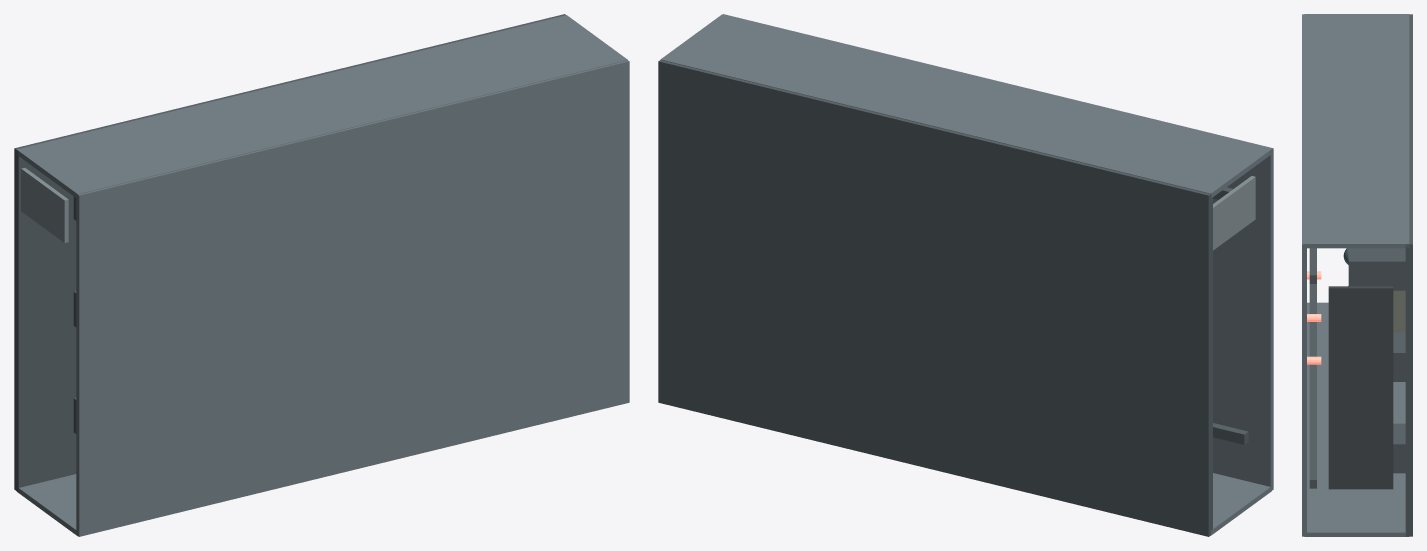
Rendered from Enterprise_CV6_1942_CIC_Interior.glb.
The picture shows the model from 3 angles, left to right: view 1: azimuth 30°, elevation 25°; view 2: azimuth 150°, elevation 25°; view 3: azimuth 270°, elevation 25°; orthographic projection. The views are drawn at different scales.
Parts seen in each view (by area): view 1: CIC_Ceiling, CIC_Wall_1, CIC_Floor, CIC_WatertightDoor, CIC_Wall_-1; view 2: CIC_Floor, CIC_Wall_1, CIC_Ceiling, CIC_WatertightDoor, CIC_Wall_-1; view 3: CIC_Wall_1, CIC_StatusBoard, CIC_Wall_-1, CIC_Floor, CIC_Console_5, CIC_Ceiling, CIC_CableTray_-2.8, CIC_Console_3, CIC_Console_4, CIC_PlotTable, CIC_CableTray_2.8.
Boxes of the visible parts, bbox=[...] form: CIC_Ceiling: bbox=[76, 60, 629, 536]; CIC_Wall_1: bbox=[16, 15, 627, 197]; CIC_Floor: bbox=[14, 14, 565, 492]; CIC_WatertightDoor: bbox=[21, 168, 68, 242]; CIC_Wall_-1: bbox=[17, 474, 77, 536]; CIC_Floor: bbox=[658, 60, 1212, 536]; CIC_Wall_1: bbox=[660, 14, 1271, 198]; CIC_Ceiling: bbox=[722, 14, 1273, 490]; CIC_WatertightDoor: bbox=[1213, 176, 1255, 250]; CIC_Wall_-1: bbox=[1211, 473, 1271, 535]; CIC_Wall_1: bbox=[1304, 14, 1409, 248]; CIC_StatusBoard: bbox=[1328, 286, 1393, 489]; CIC_Wall_-1: bbox=[1304, 302, 1408, 536]; CIC_Floor: bbox=[1405, 14, 1412, 536]; CIC_Console_5: bbox=[1348, 248, 1405, 290]; CIC_Ceiling: bbox=[1302, 14, 1306, 536]; CIC_CableTray_-2.8: bbox=[1309, 284, 1316, 488]; CIC_Console_3: bbox=[1393, 423, 1405, 473]; CIC_Console_4: bbox=[1393, 332, 1405, 381]; CIC_PlotTable: bbox=[1393, 290, 1405, 332]; CIC_CableTray_2.8: bbox=[1309, 248, 1316, 283].
Bounding box in the file's own units: 13.5 × 8.02 × 2.75.
